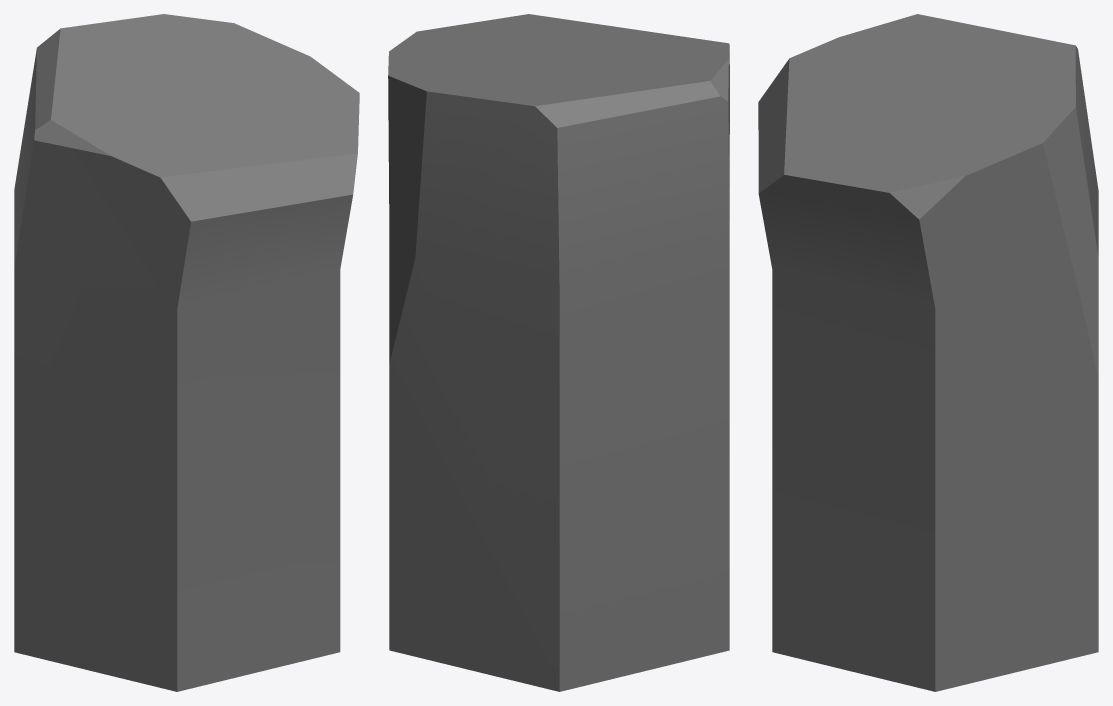
The model's file is rock10.fbx.
3 renders of one model, left to right at view 1: azimuth 30°, elevation 25°; view 2: azimuth 150°, elevation 25°; view 3: azimuth 270°, elevation 25°, orthographic. The views are drawn at different scales.
Parts seen in each view (by area): view 1: rock11; view 2: rock11; view 3: rock11.
Boxes of the visible parts, bbox=[...] form: rock11: bbox=[14, 14, 359, 691]; rock11: bbox=[388, 14, 729, 691]; rock11: bbox=[758, 14, 1098, 691].
Bounding box in the file's own units: 1111 × 1729 × 979.
